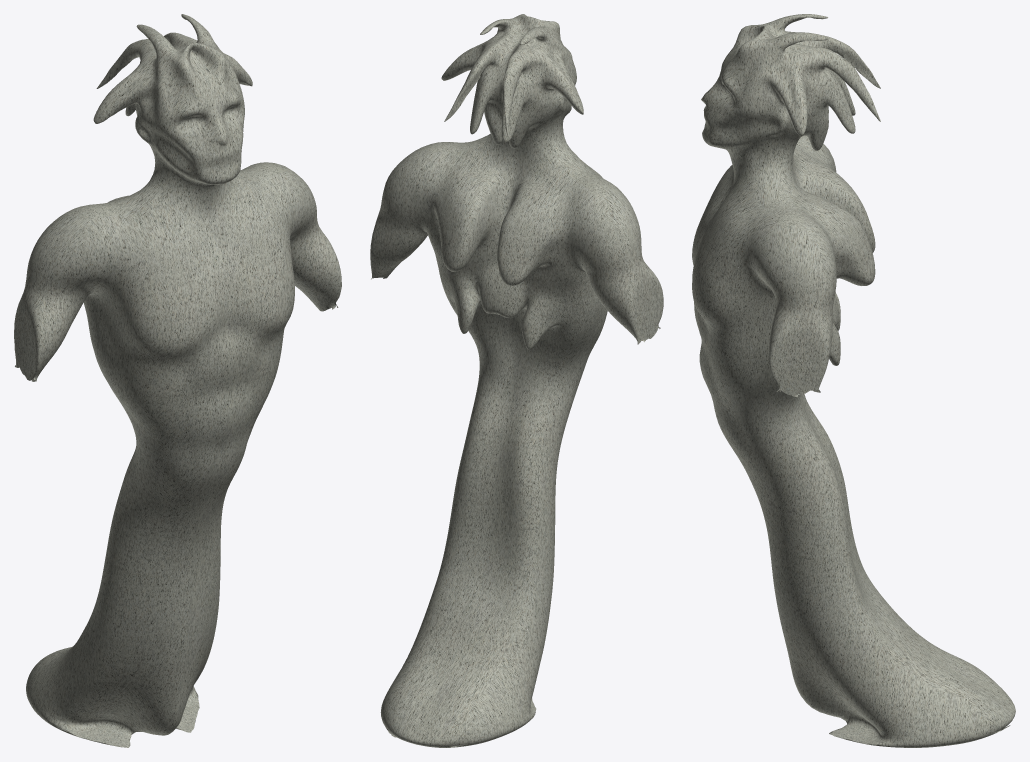
Rendered from Statue.FBX.
3 renders of one model, left to right at view 1: azimuth 30°, elevation 25°; view 2: azimuth 150°, elevation 25°; view 3: azimuth 270°, elevation 25°, orthographic. The views are drawn at different scales.
Visible parts, largest first — view 1: ManBaseMesh1; view 2: ManBaseMesh1; view 3: ManBaseMesh1.
Boxes of the visible parts, bbox=[...] form: ManBaseMesh1: bbox=[14, 14, 341, 747]; ManBaseMesh1: bbox=[370, 14, 663, 747]; ManBaseMesh1: bbox=[692, 14, 1015, 747].
Size of the model in its own units: 6.47 by 14.85 by 6.22.
Materials: 1 (1 with a texture image).
